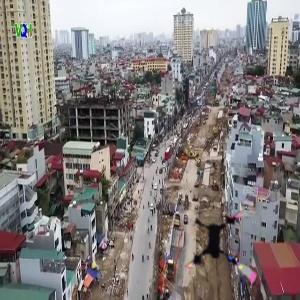drone: (178, 203, 272, 297)
